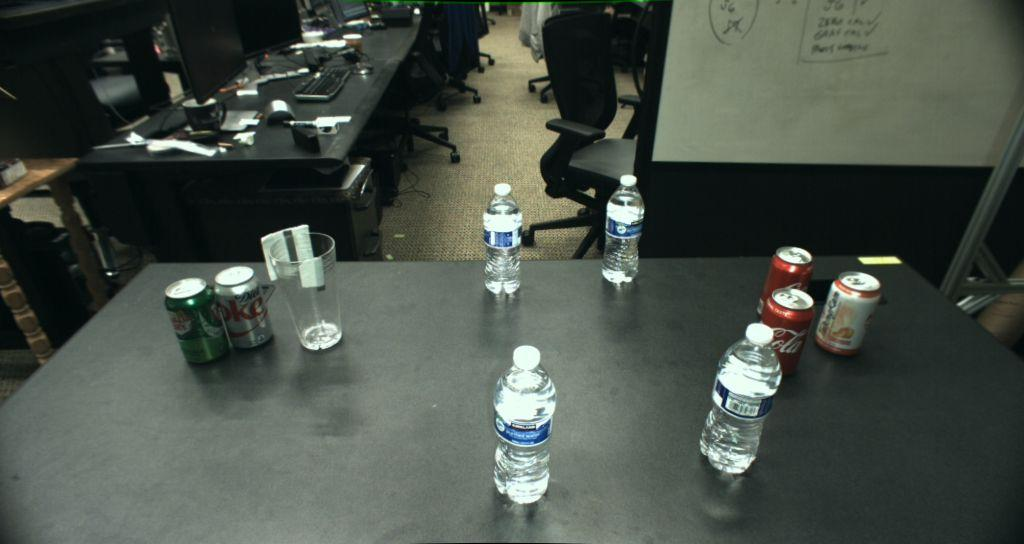can_coke: (748, 287, 814, 376), (756, 246, 815, 322)
can_diet_coke: (214, 266, 275, 350)
can_ginger_ale: (166, 278, 230, 365)
can_talking_rain_peach_nectarine: (814, 270, 881, 355)
water_bottle: (699, 323, 781, 474), (493, 344, 556, 505), (601, 174, 644, 284), (483, 183, 522, 294)
